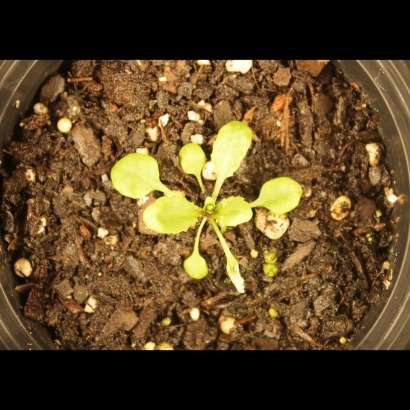leaf: (209, 115, 259, 190), (103, 144, 161, 200), (141, 190, 207, 239), (255, 174, 314, 215), (175, 244, 218, 288), (211, 196, 257, 230), (175, 142, 210, 178)
